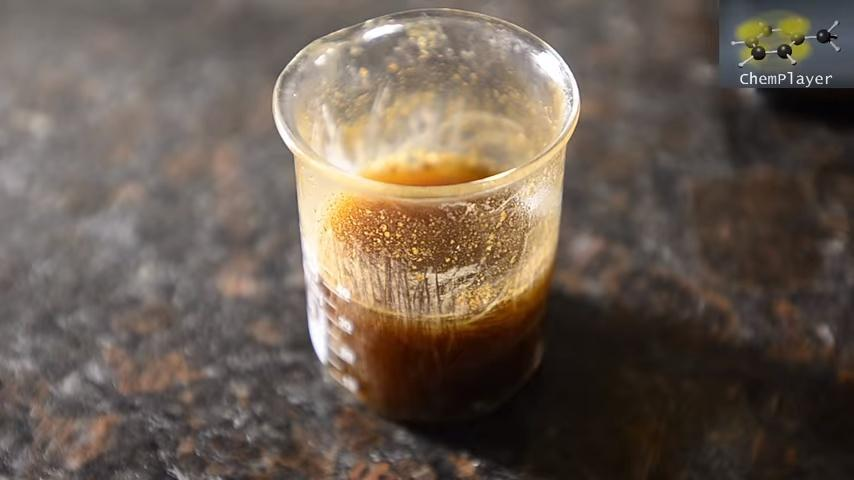Beaker: (249, 8, 583, 430)
